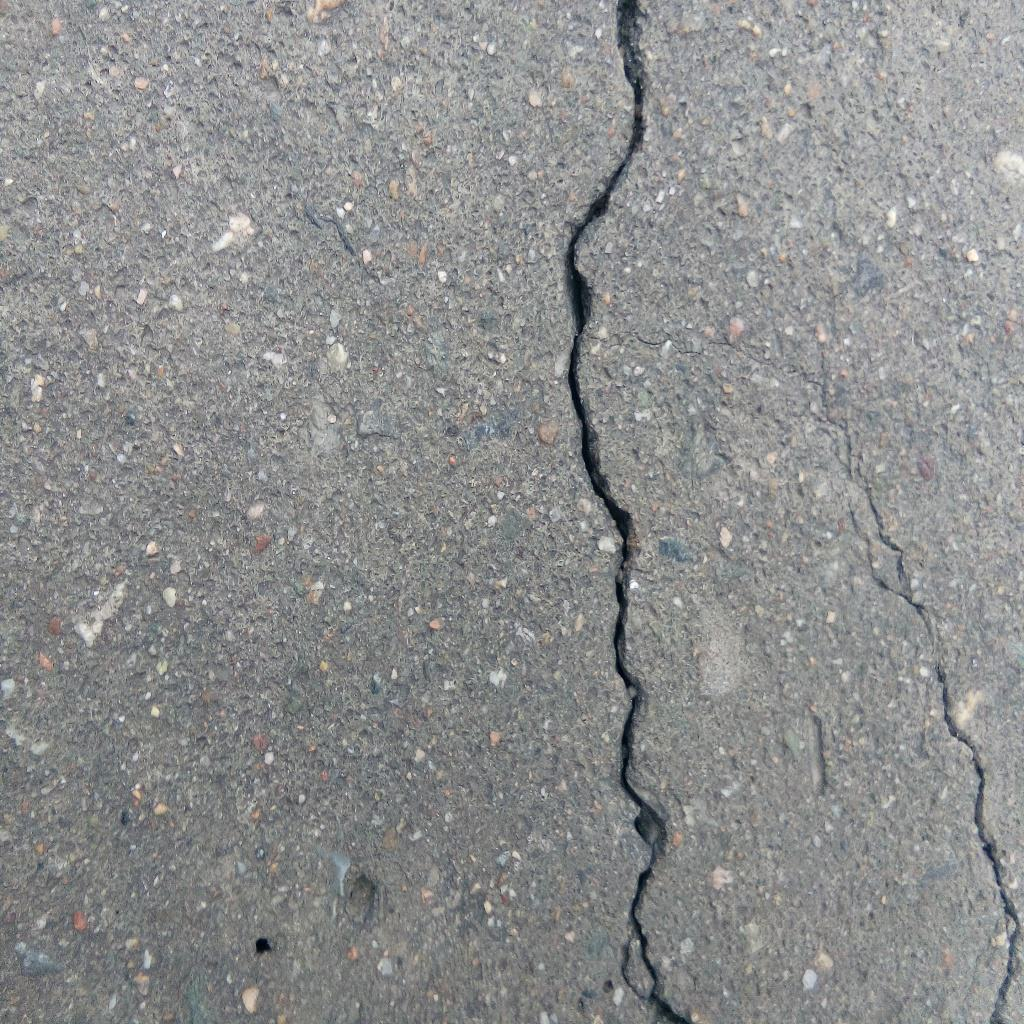Crack: (801, 375, 1024, 1024), (564, 1, 694, 1024)
